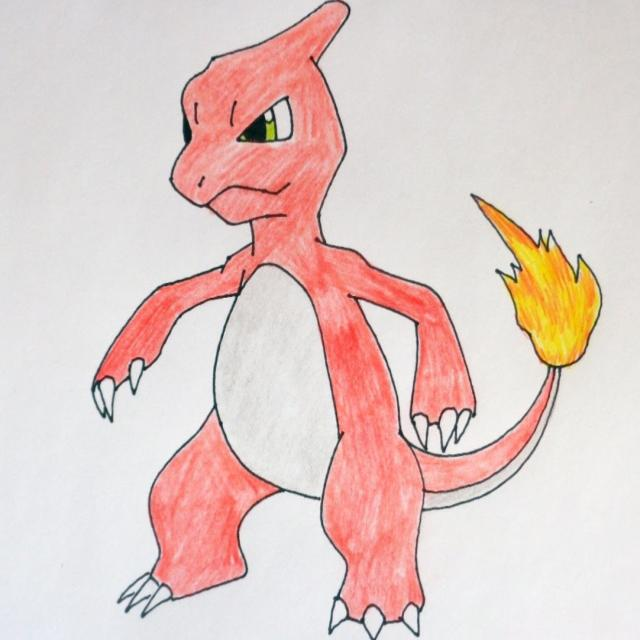Charmeleon: (92, 0, 524, 632)
